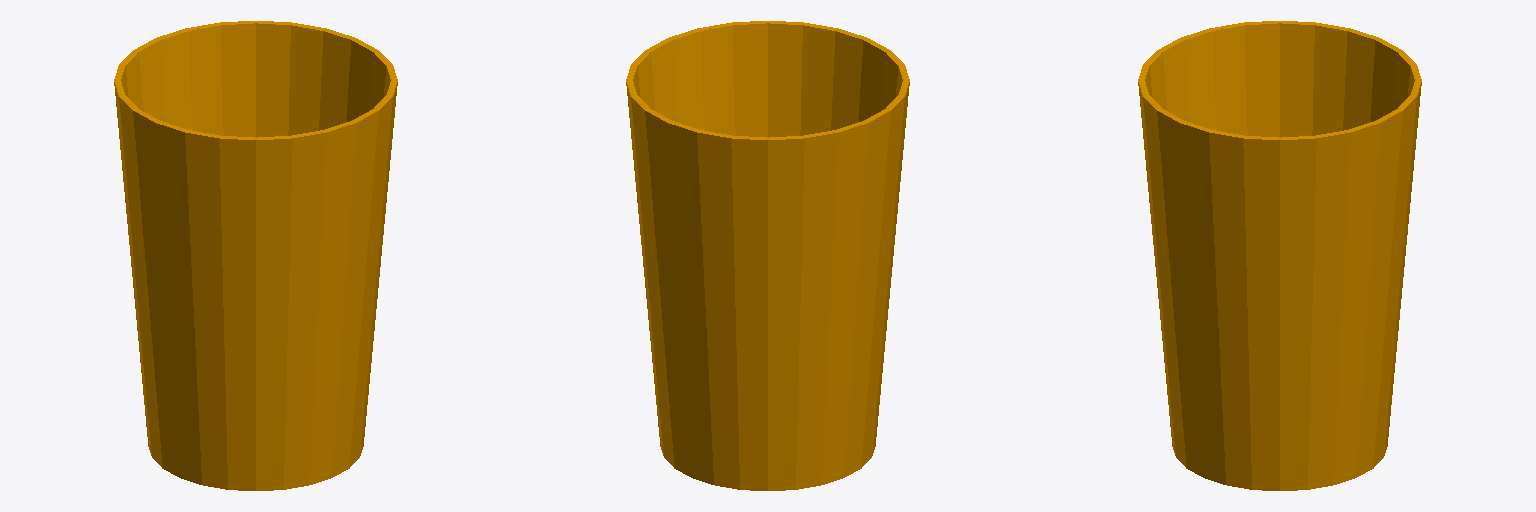
robot.urdf — obj_2:
<?xml version="1.0"?>
<robot name="obj_2">
  <link name="obj_2">
    <visual>
      <origin xyz="0.0 0.0 0.0" rpy="0 0 0"/>
      <geometry>
        <mesh filename="../mesh/ncf_mug_cupholder/obj_assets/2/obj_collision.obj" scale="1 1 1"/>
      </geometry>
    </visual>
    <collision>
      <origin xyz="0.0 0.0 0.0" rpy="0 0 0"/>
      <geometry>
        <mesh filename="../mesh/ncf_mug_cupholder/obj_assets/2/obj_collision.obj" scale="1 1 1"/>
      </geometry>
      <sdf resolution="512"/>
    </collision >    
    <inertial>
      <mass value="0.102"/>
      <inertia ixx="0.0001" ixy="0.0" ixz="0.0" iyy="0.0001" iyz="0.0" izz="0.0001"/>
    </inertial>
  </link>
</robot>

--- Facts derived from the render (not from the file) ---
3 views of the same robot in one strip: view 1: azimuth 30°, elevation 25°; view 2: azimuth 150°, elevation 25°; view 3: azimuth 270°, elevation 25° (orthographic).
Robot: obj_2 — 1 links, 0 joints (none); root link obj_2; default pose: every joint at zero.
Visible links, largest first — view 1: obj_2; view 2: obj_2; view 3: obj_2.
Link boxes in pixels (bbox=[...]): obj_2: bbox=[114, 21, 397, 490]; obj_2: bbox=[626, 21, 909, 490]; obj_2: bbox=[1138, 21, 1421, 490].
Size in the robot's own frame: 0.0898 by 0.0898 by 0.1276 metres.
1 mesh visuals loaded from 1 distinct referenced files (1 OBJ).